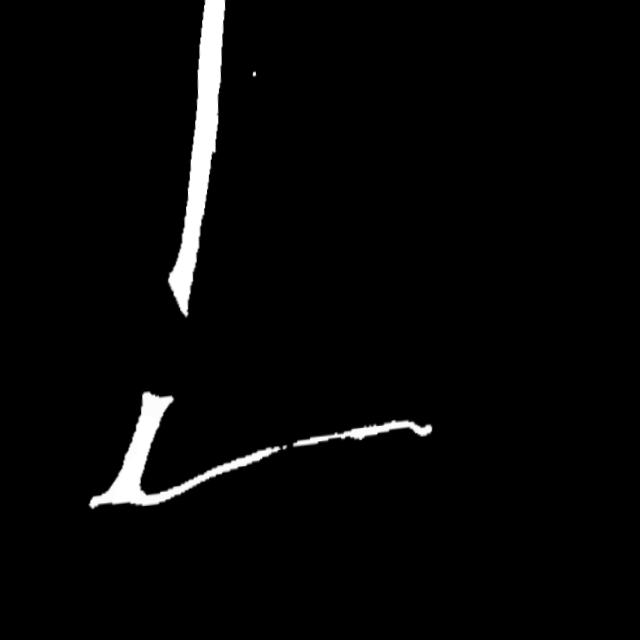inf: (276, 436, 310, 463)
